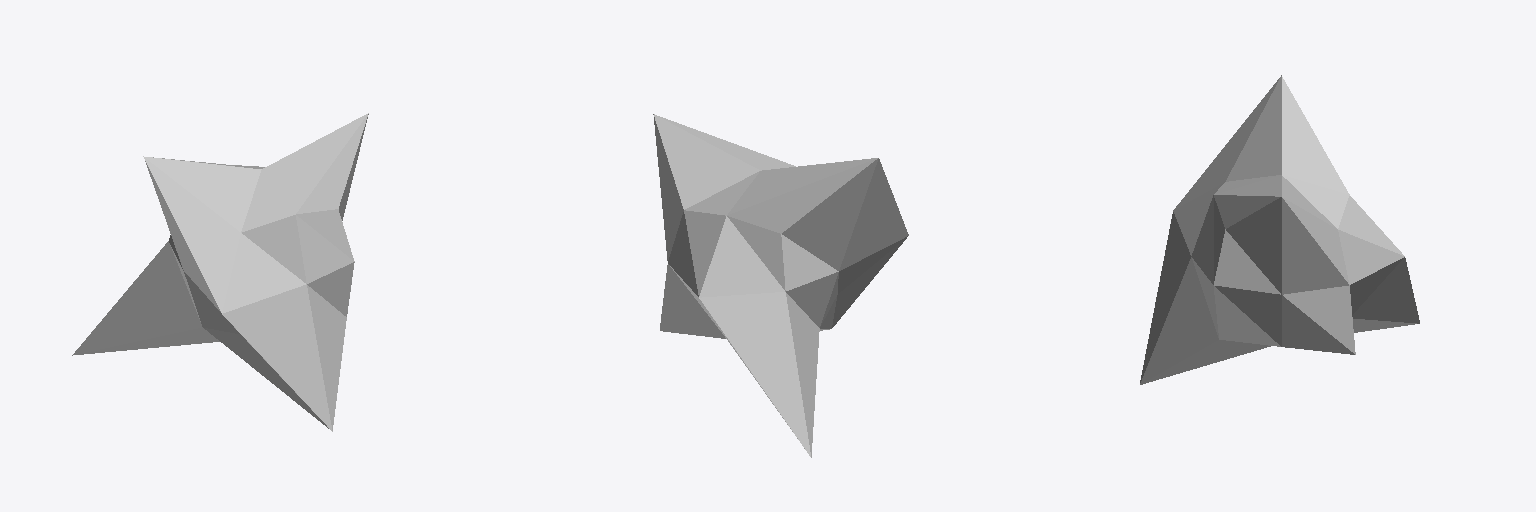
The model's file is abyss_lifepod.obj.
3 views of the same model, side by side, from view 1: azimuth 30°, elevation 25°; view 2: azimuth 150°, elevation 25°; view 3: azimuth 270°, elevation 25° (orthographic).
Parts seen in each view (by area): view 1: Cube_Cube.002; view 2: Cube_Cube.002; view 3: Cube_Cube.002.
Boxes of the visible parts, x1=… form: Cube_Cube.002: x1=72, y1=113, x2=368, y2=431; Cube_Cube.002: x1=653, y1=114, x2=908, y2=457; Cube_Cube.002: x1=1140, y1=75, x2=1419, y2=384.
Bounding box in the file's own units: 0.9875 × 1.05 × 1.06.